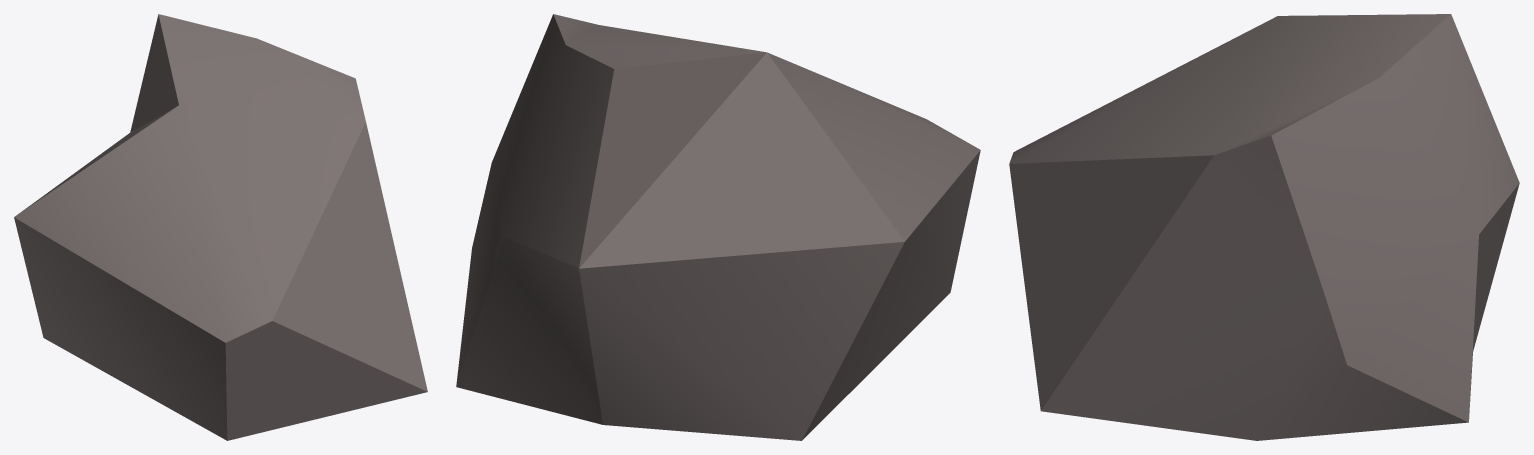
Rendered from Stein_klein.fbx.
3 views of the same model, side by side, from view 1: azimuth 30°, elevation 25°; view 2: azimuth 150°, elevation 25°; view 3: azimuth 270°, elevation 25° (orthographic). The views are drawn at different scales.
Visible parts, largest first — view 1: Stone.001; view 2: Stone.001; view 3: Stone.001.
Boxes of the visible parts, x1,y1,x2,y2 form: Stone.001: (14,14,427,440); Stone.001: (456,14,980,440); Stone.001: (1009,14,1519,440).
Bounding box in the file's own units: 38.94 × 30 × 41.08.
